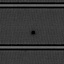dust: (30, 30, 35, 34)
